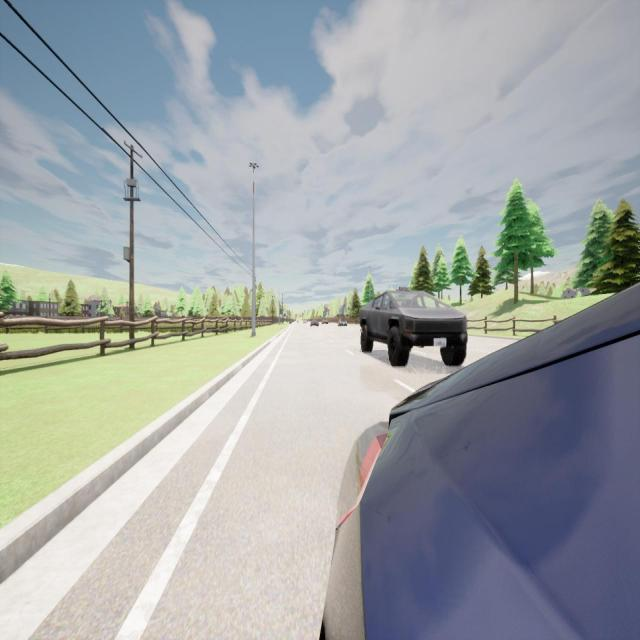Vehicle: (324, 283, 640, 638), (358, 290, 468, 366), (337, 319, 348, 326), (310, 320, 319, 327), (322, 320, 328, 324), (303, 320, 307, 324)
